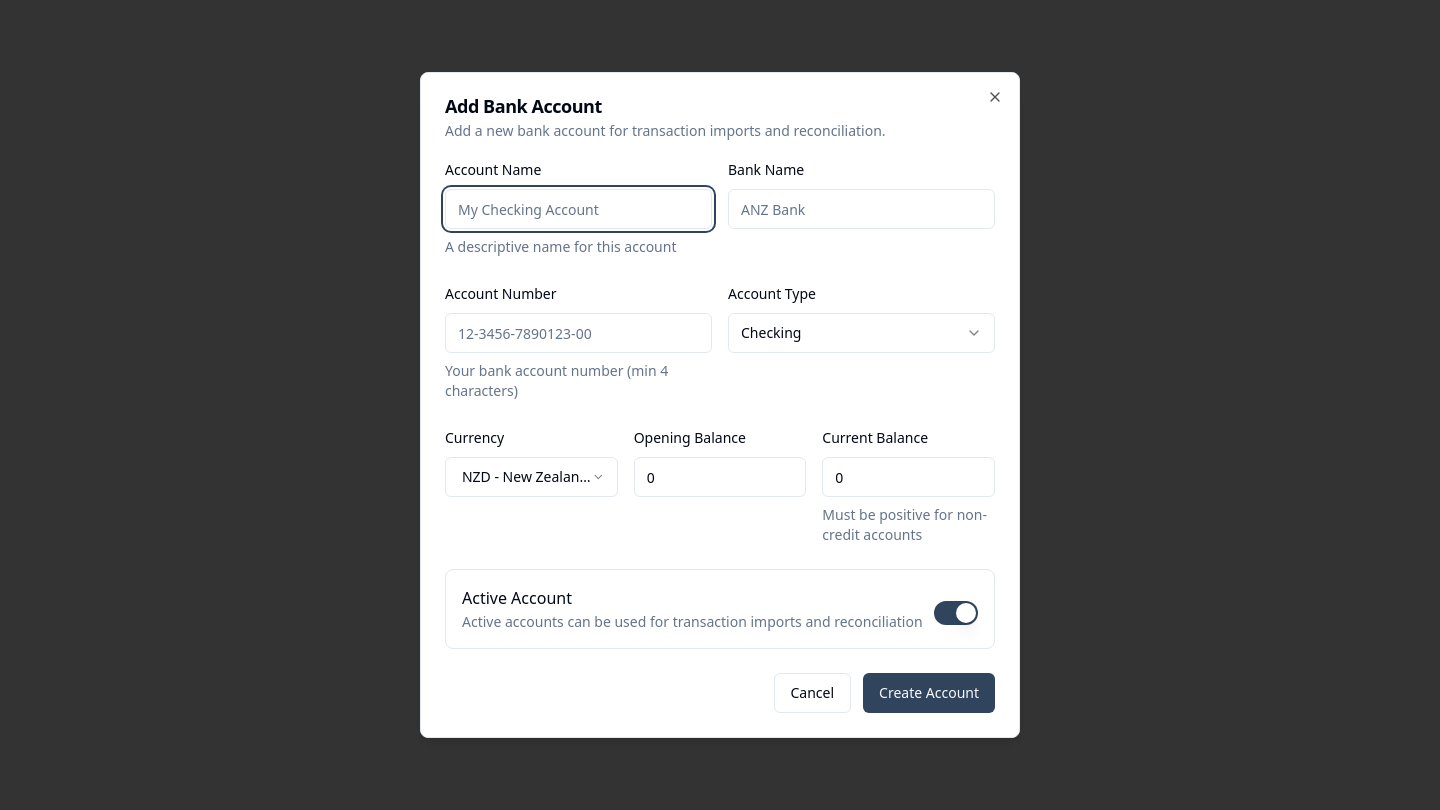
Test: BankAccountDialog › should validate account number minimum length
Type "123" into the field labelled "Account Number".
click(578, 333); type("123")  # box x1=445 y1=313 x2=712 y2=353
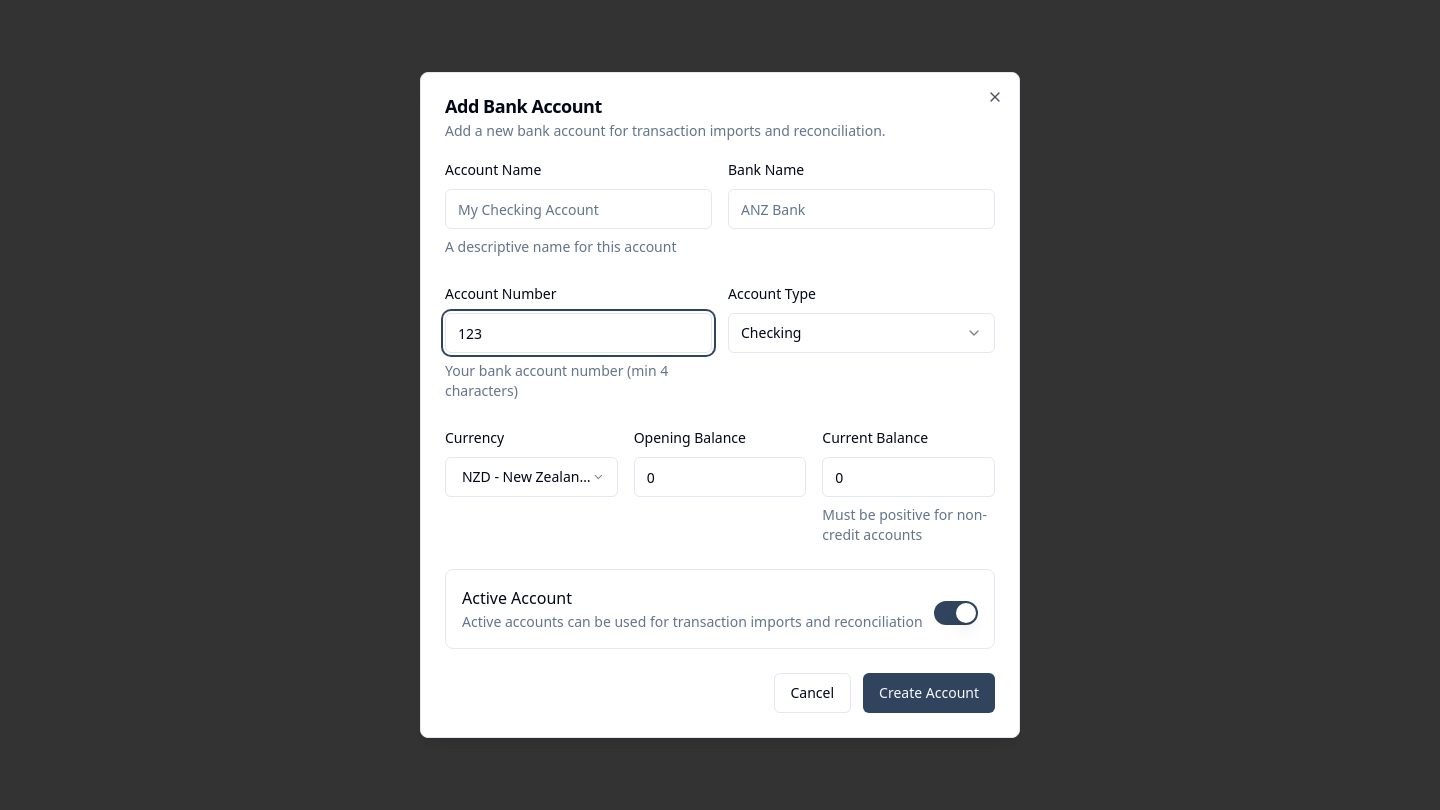
Click the button "Create Account".
click(929, 693)  # box x1=863 y1=673 x2=995 y2=713
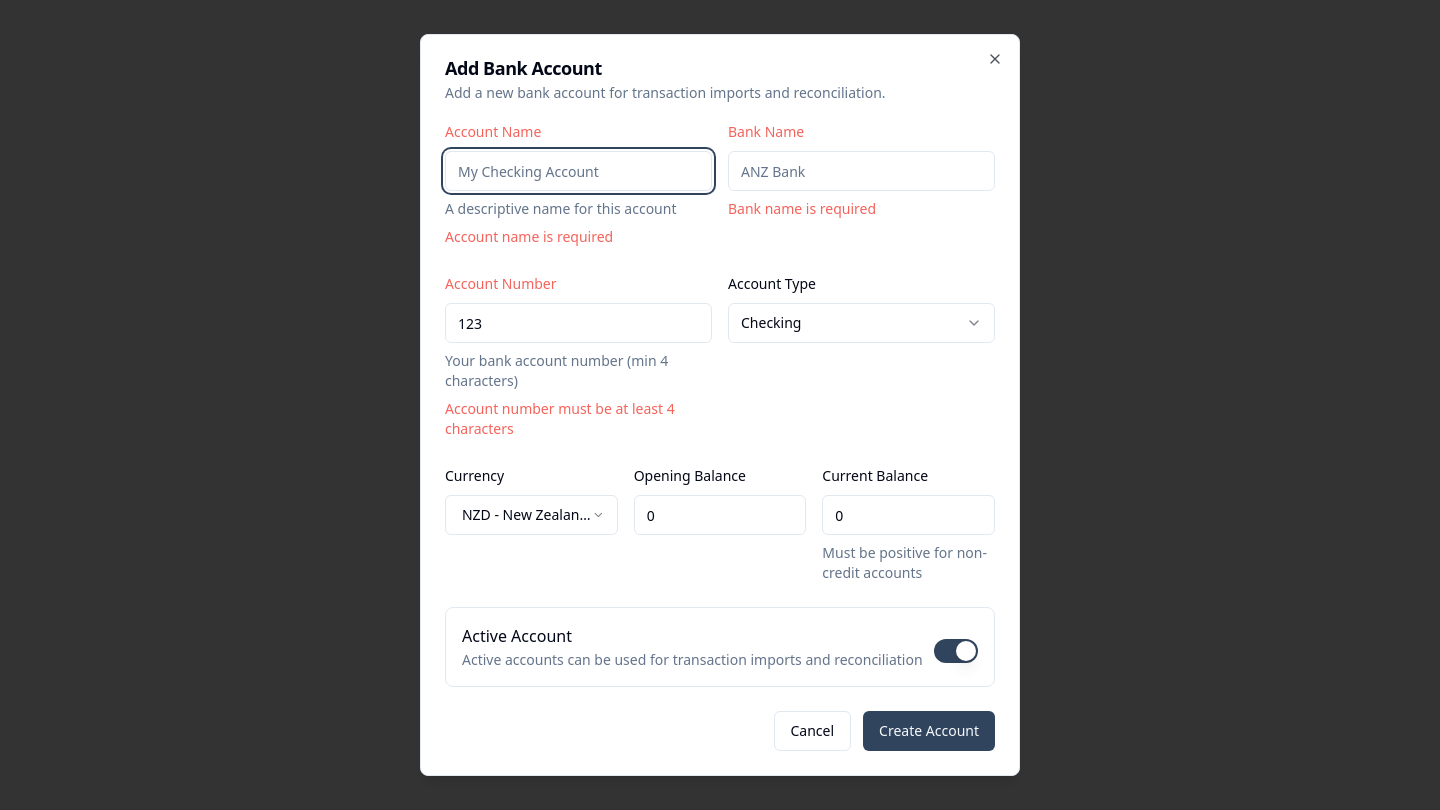
Expected: the text "Account number must be at least 4 characters" is shown, x1=445 y1=399 x2=712 y2=439
